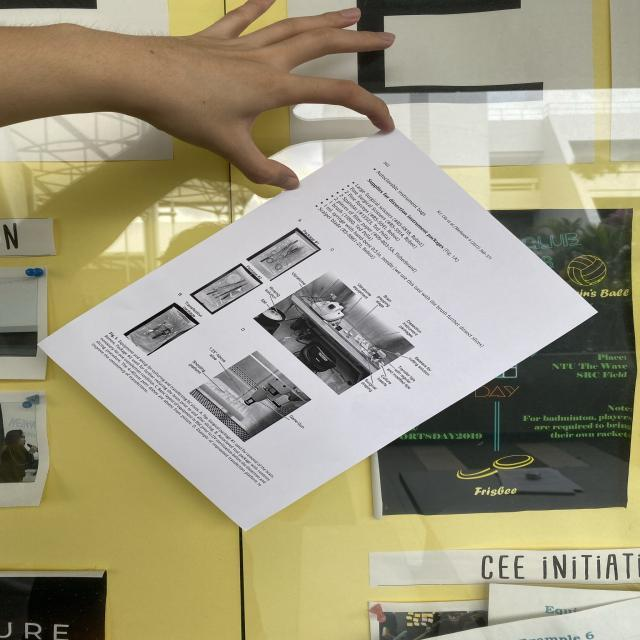document: (40, 131, 595, 529)
